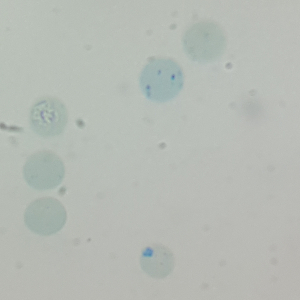erythrocyte: (182, 19, 226, 62), (23, 195, 67, 237), (27, 95, 68, 139), (23, 149, 65, 191), (138, 241, 178, 280)
punctate reticulocyte: (138, 57, 185, 103)
